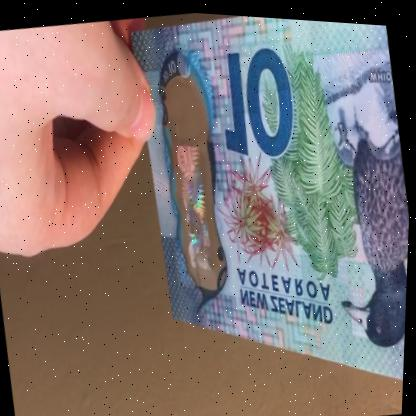10F: (162, 92, 228, 277)
